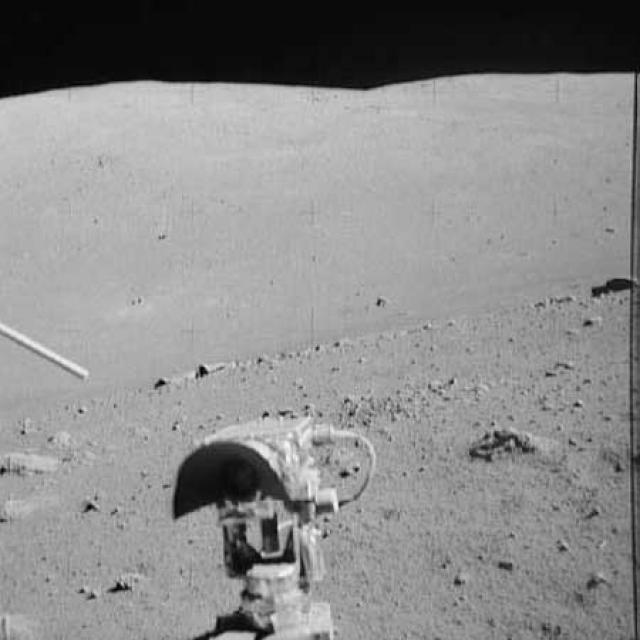artifact: (155, 406, 378, 638), (2, 321, 92, 385)
rock: (467, 418, 556, 465), (152, 355, 230, 389), (1, 444, 61, 480), (590, 264, 636, 302), (3, 497, 55, 528), (3, 610, 51, 639)
